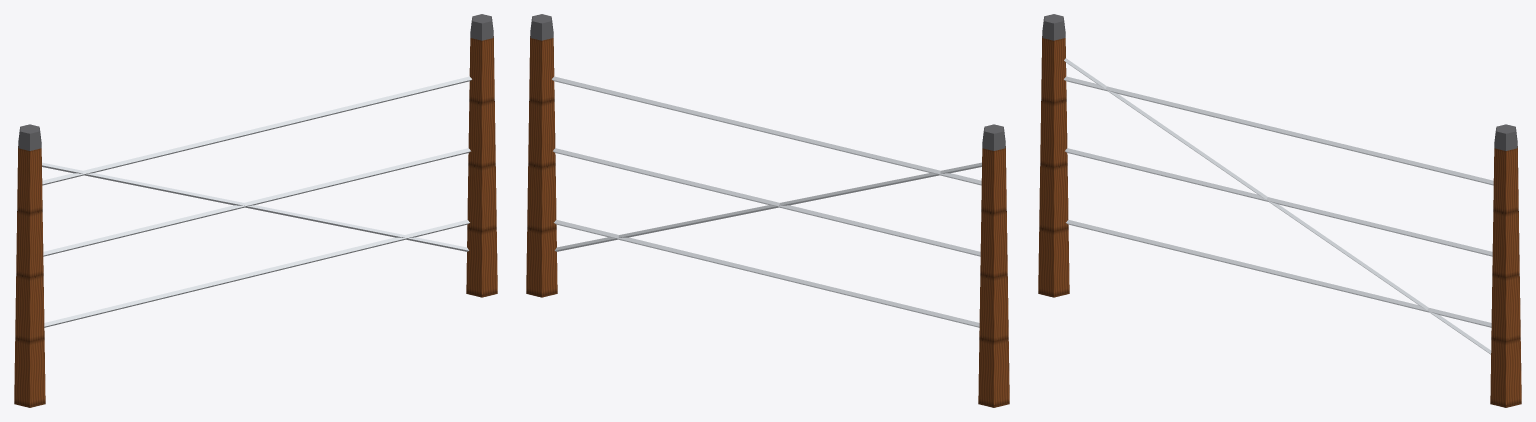
The model's file is safari-camp-and-bush-lodge-pole-and-wire-fence-section-5cd9cd73.glb.
3 views of the same model, side by side, from view 1: azimuth 30°, elevation 25°; view 2: azimuth 150°, elevation 25°; view 3: azimuth 330°, elevation 25° (orthographic).
Visible parts, largest first — view 1: pole-and-wire-fence-section-timber, pole-and-wire-fence-section-steel, pole-and-wire-fence-section-charcoal; view 2: pole-and-wire-fence-section-timber, pole-and-wire-fence-section-steel, pole-and-wire-fence-section-charcoal; view 3: pole-and-wire-fence-section-timber, pole-and-wire-fence-section-steel, pole-and-wire-fence-section-charcoal.
Part boxes in pixels (left/top/right/bottom): pole-and-wire-fence-section-timber: left=14, top=36, right=497, bottom=407; pole-and-wire-fence-section-steel: left=42, top=76, right=471, bottom=327; pole-and-wire-fence-section-charcoal: left=18, top=14, right=493, bottom=150; pole-and-wire-fence-section-timber: left=526, top=36, right=1009, bottom=407; pole-and-wire-fence-section-steel: left=552, top=76, right=981, bottom=327; pole-and-wire-fence-section-charcoal: left=530, top=14, right=1005, bottom=150; pole-and-wire-fence-section-timber: left=1038, top=36, right=1521, bottom=407; pole-and-wire-fence-section-steel: left=1064, top=58, right=1493, bottom=354; pole-and-wire-fence-section-charcoal: left=1042, top=14, right=1517, bottom=150.
Size of the model in its own units: 2.48 by 1.33 by 0.1387.
Materials: 3 (1 with a texture image).
